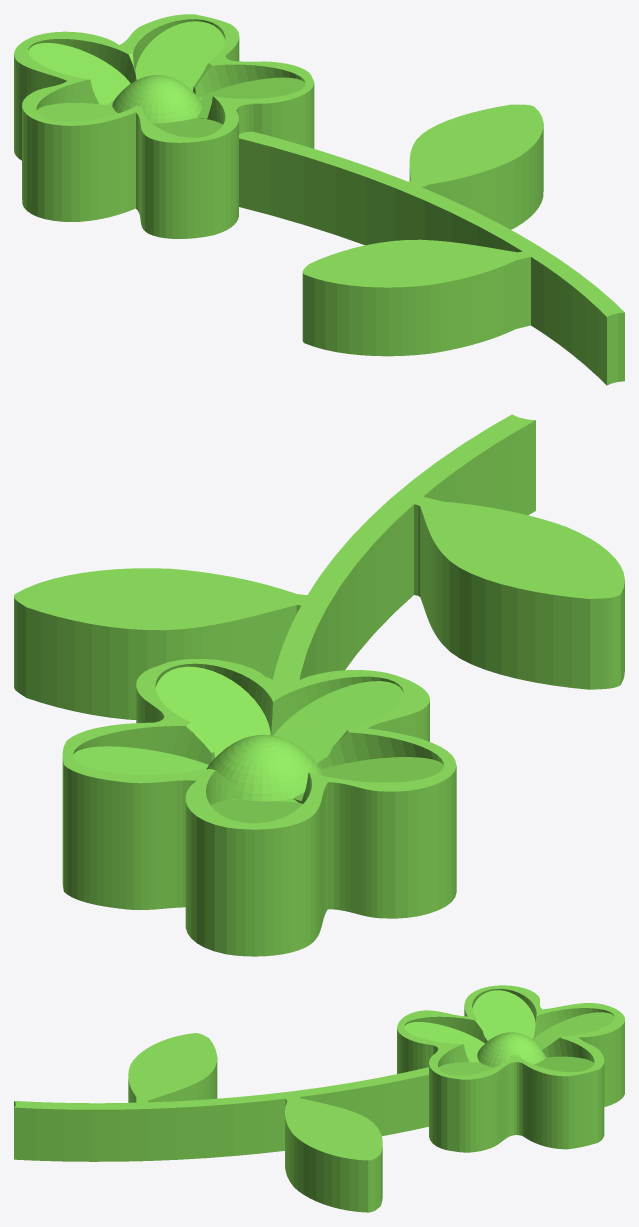
Rendered from flower.glb.
The picture shows the model from 3 angles, top to bottom: view 1: azimuth 30°, elevation 25°; view 2: azimuth 150°, elevation 25°; view 3: azimuth 270°, elevation 25°; orthographic projection. The views are drawn at different scales.
Bounding box in the file's own units: 63.52 × 14 × 106.
